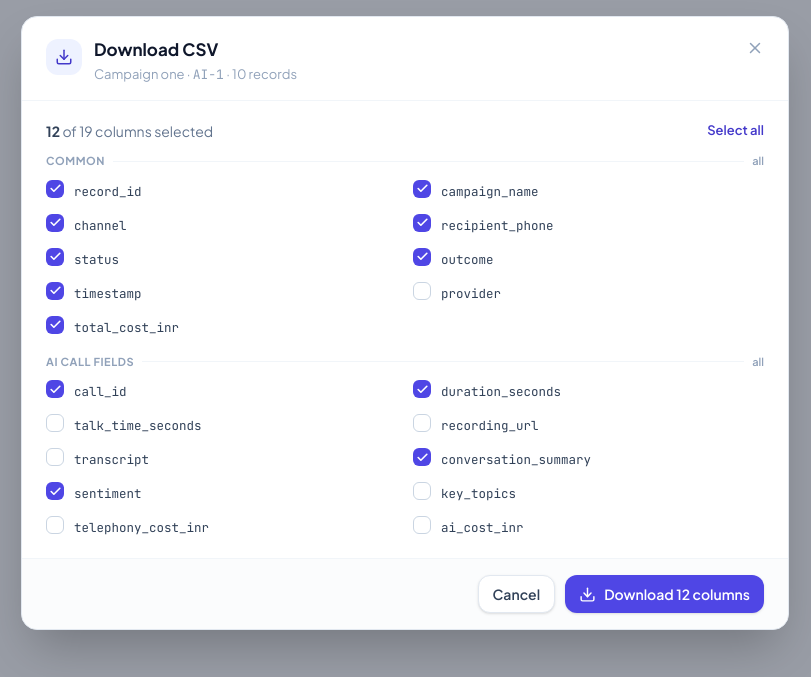
it: DownloadModal › states the rows the prepared CSV actually holds
Click the button "Download 12 columns" at (665, 594), box [565, 575, 764, 613]
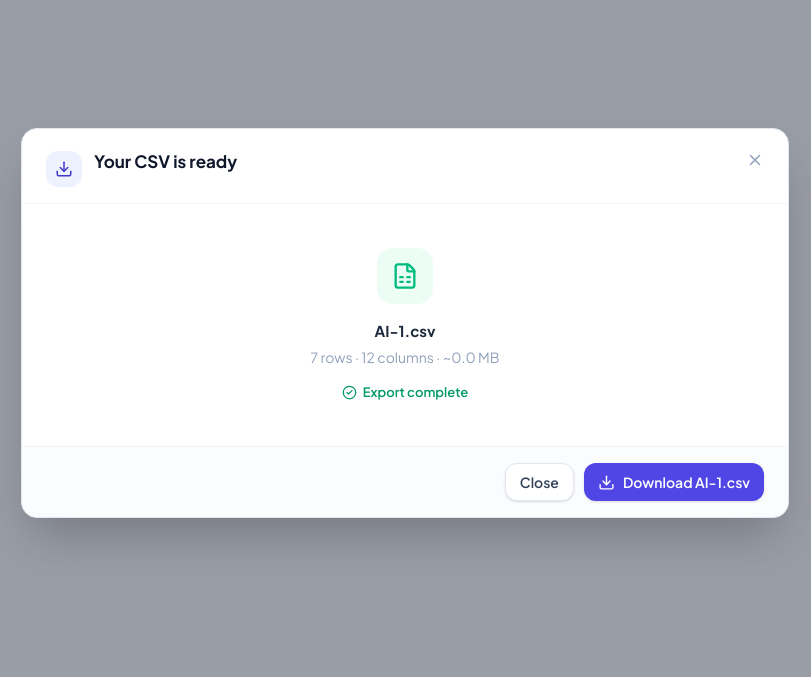
Expected: the text with test id "download-row-count" does not show "10 rows", [310, 346, 500, 366]
Now the text "7 rows · 12 columns · ~0.0 MB" is shown, box [310, 346, 500, 366]
